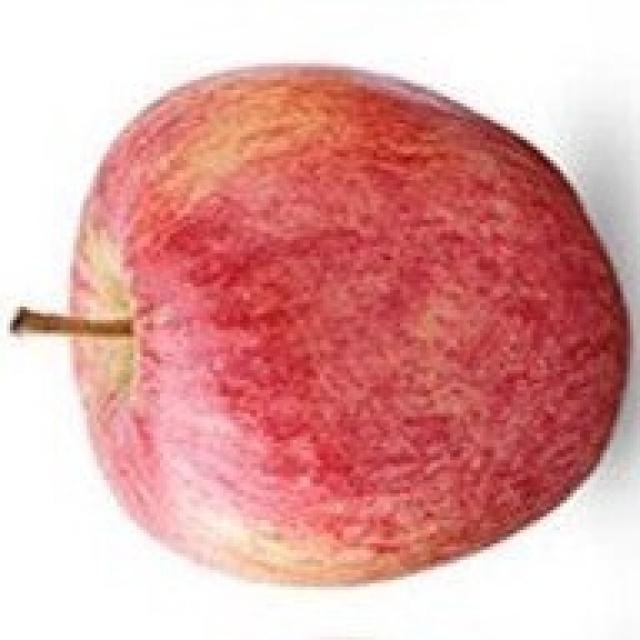75-_ripeness: (71, 66, 632, 584)
